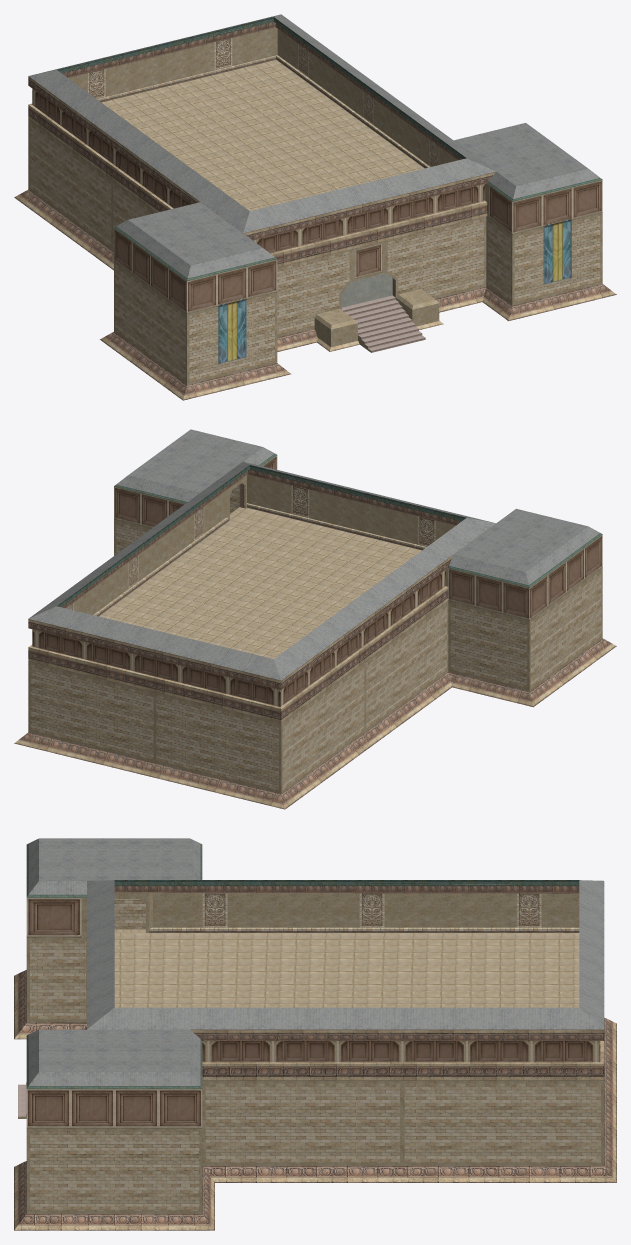
File: ply_nboo_assoc_hall_civ_s01_l1.fbx
3 renders of one model, top to bottom at view 1: azimuth 30°, elevation 25°; view 2: azimuth 150°, elevation 25°; view 3: azimuth 270°, elevation 25°, orthographic. The views are drawn at different scales.
Parts seen in each view (by area): view 1: mesh_node; view 2: mesh_node; view 3: mesh_node.
Part boxes in pixels (x1,y1,x2,y2): mesh_node: (14,14,616,400); mesh_node: (14,429,616,809); mesh_node: (14,838,616,1230).
Size of the model in its own units: 48 by 14 by 48.
